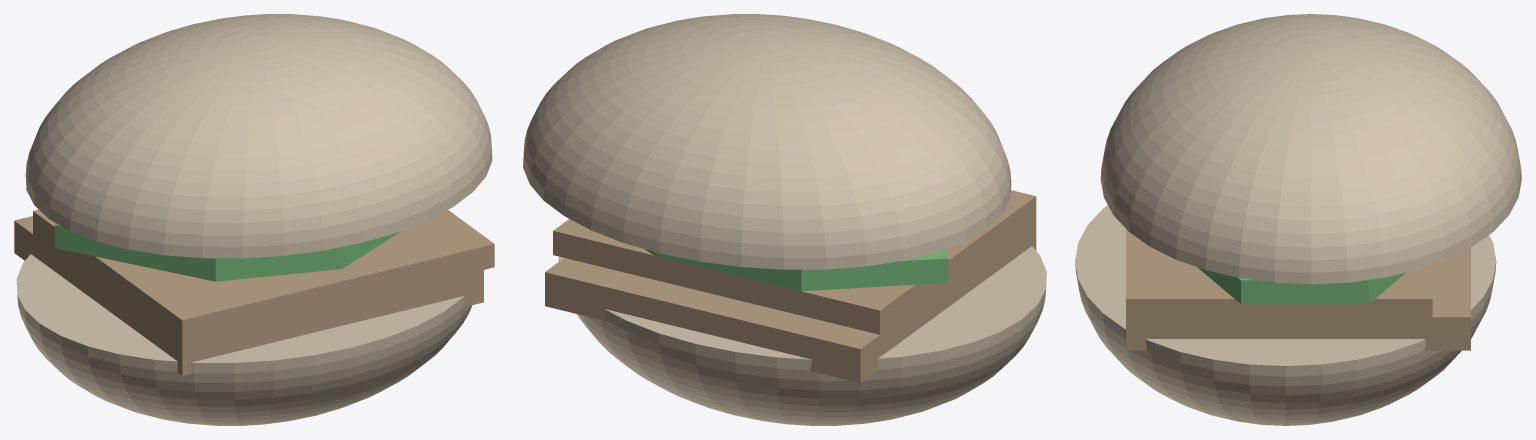
The model's file is Charlie - Hamburger.glb.
The picture shows the model from 3 angles, left to right: view 1: azimuth 30°, elevation 25°; view 2: azimuth 150°, elevation 25°; view 3: azimuth 270°, elevation 25°; orthographic projection. The views are drawn at different scales.
Visible parts, largest first — view 1: Mesh_Mesh_head_geo.001_lambert2SG.001; view 2: Mesh_Mesh_head_geo.001_lambert2SG.001; view 3: Mesh_Mesh_head_geo.001_lambert2SG.001.
Part boxes in pixels (x1=…): Mesh_Mesh_head_geo.001_lambert2SG.001: x1=14, y1=14, x2=494, y2=425; Mesh_Mesh_head_geo.001_lambert2SG.001: x1=523, y1=14, x2=1046, y2=425; Mesh_Mesh_head_geo.001_lambert2SG.001: x1=1075, y1=14, x2=1521, y2=425.
Bounding box in the file's own units: 0.0916 × 0.067 × 0.0782.
